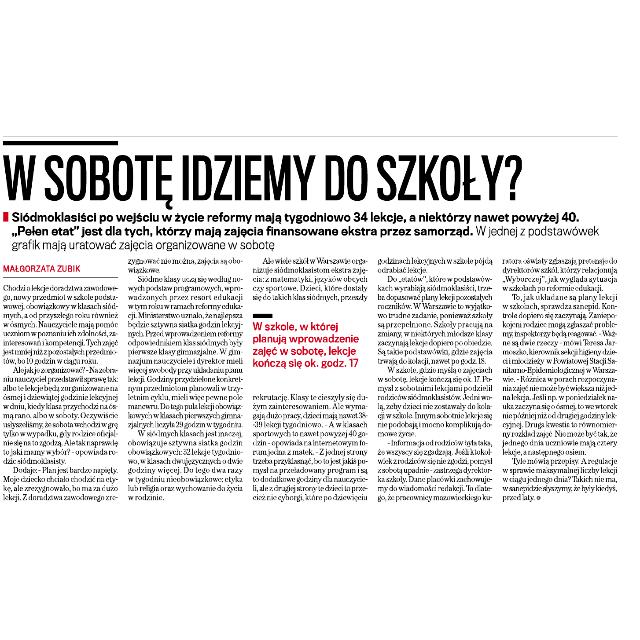author: (1, 262, 85, 276)
body: (498, 253, 620, 503), (374, 255, 494, 505), (125, 257, 245, 503), (0, 280, 121, 504), (250, 392, 370, 504), (250, 310, 360, 372), (249, 255, 371, 303)
lead: (2, 210, 604, 252)
title: (1, 149, 528, 211)
